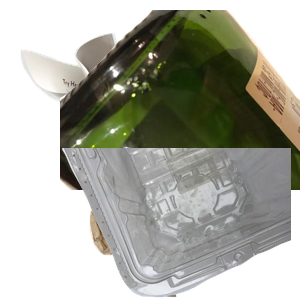glass: (60, 10, 300, 190)
paper: (18, 30, 213, 210)
plastic: (60, 148, 300, 300)
trash: (73, 147, 300, 300)
